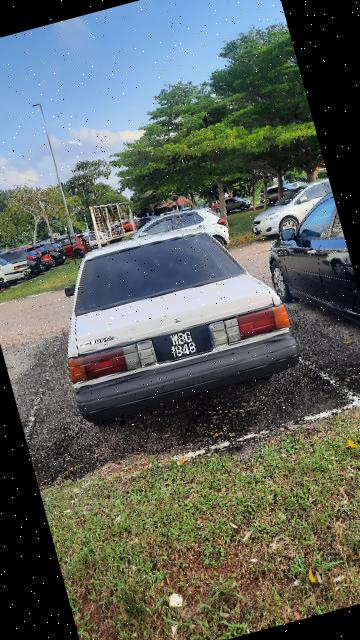License_Plate: (148, 321, 217, 369)
car: (33, 198, 310, 438), (249, 190, 360, 347)
